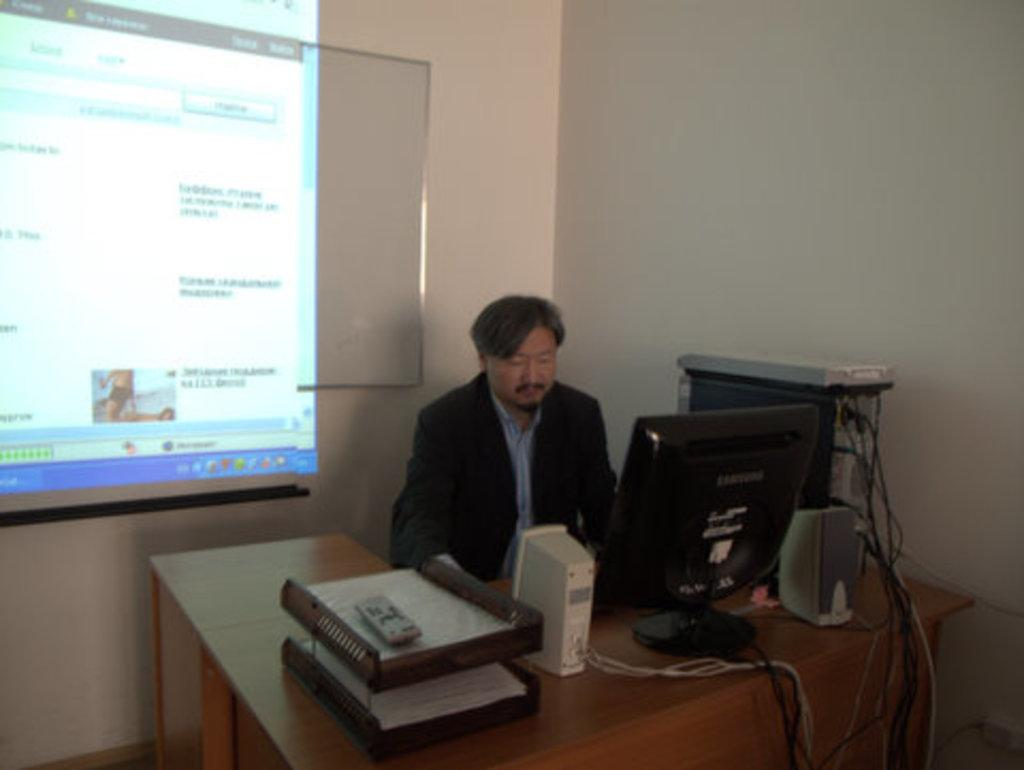Computer-mouse: (600, 397, 823, 658)
